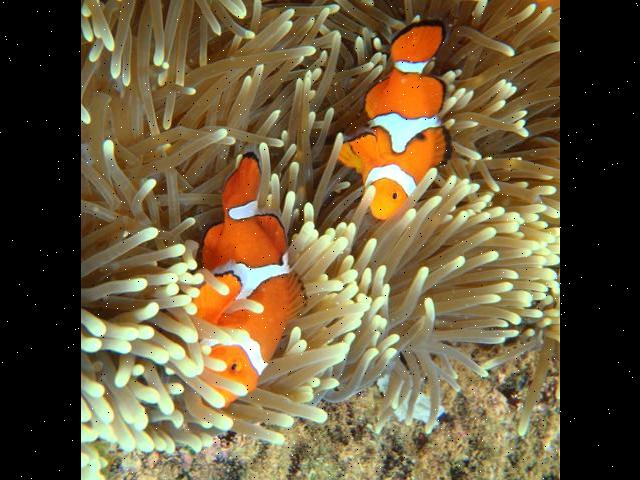Sirip Anal: (186, 218, 237, 270), (352, 74, 392, 120)
Sirip Dada: (196, 264, 252, 320), (332, 126, 384, 172)
Sirip Ekor: (203, 142, 273, 213), (379, 13, 459, 74)
Sirip Punggung: (262, 203, 310, 324), (421, 70, 457, 170)
